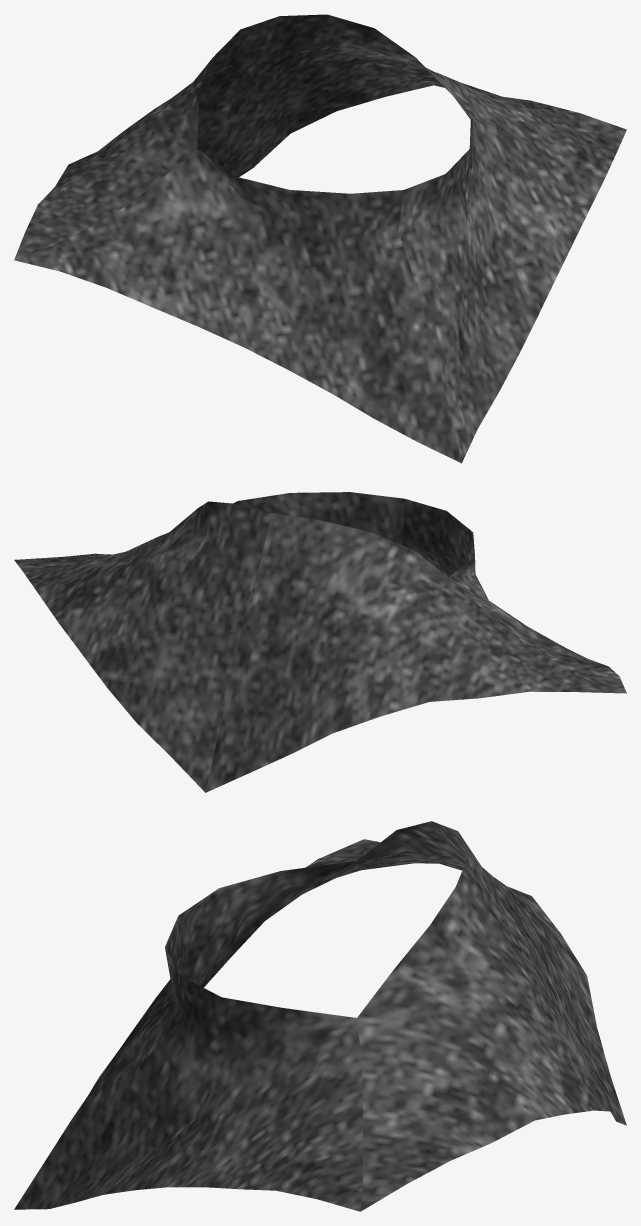
File: vorot.glb
The picture shows the model from 3 angles, top to bottom: view 1: azimuth 30°, elevation 25°; view 2: azimuth 150°, elevation 25°; view 3: azimuth 270°, elevation 25°; orthographic projection. The views are drawn at different scales.
Parts seen in each view (by area): view 1: Pattern2D_67105.001, Pattern2D_67100.002, Pattern2D_67101.002, Pattern2D_67102.001; view 2: Pattern2D_67102.001, Pattern2D_67101.002, Pattern2D_67105.001, Pattern2D_67100.002; view 3: Pattern2D_67100.002, Pattern2D_67101.002, Pattern2D_67102.001, Pattern2D_67105.001.
Part boxes in pixels (<box>): Pattern2D_67105.001: <box>14,149,461,463</box>; Pattern2D_67100.002: <box>398,95,626,462</box>; Pattern2D_67101.002: <box>223,14,626,177</box>; Pattern2D_67102.001: <box>14,16,279,259</box>; Pattern2D_67102.001: <box>205,513,626,792</box>; Pattern2D_67101.002: <box>14,501,271,792</box>; Pattern2D_67105.001: <box>402,499,626,693</box>; Pattern2D_67100.002: <box>15,492,404,563</box>; Pattern2D_67100.002: <box>14,948,362,1211</box>; Pattern2D_67101.002: <box>357,857,626,1211</box>; Pattern2D_67102.001: <box>357,821,626,1124</box>; Pattern2D_67105.001: <box>72,839,363,1118</box>.
Bounding box in the file's own units: 0.272 × 0.1294 × 0.2001.
1 material, 1 textured.
